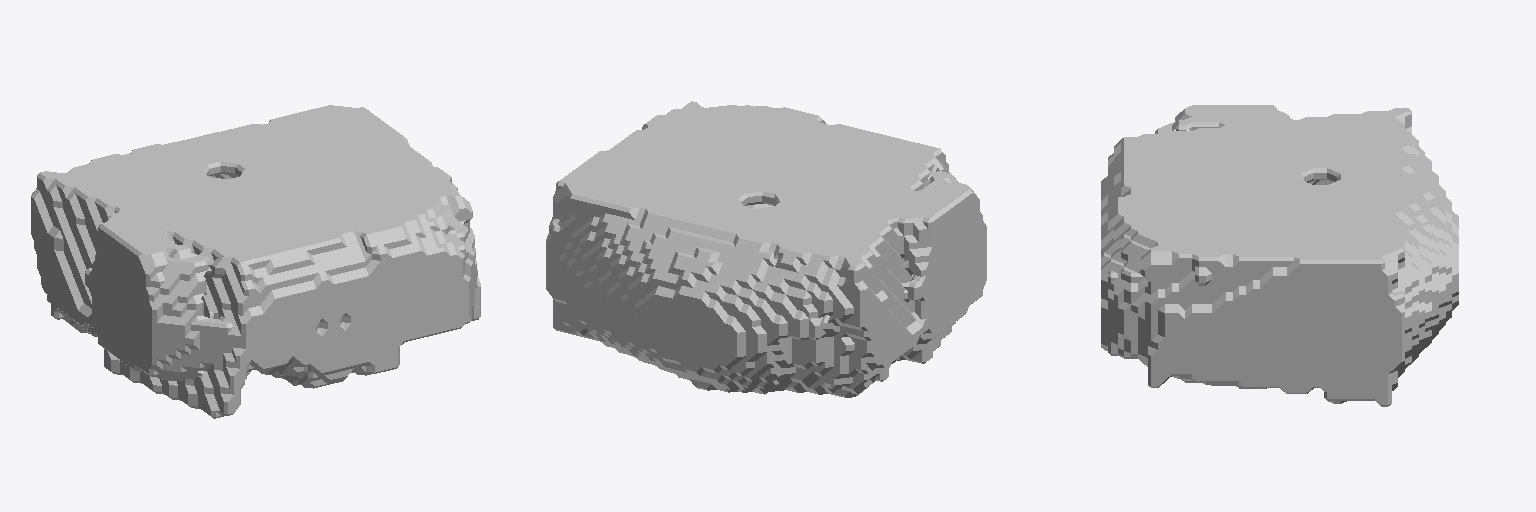
Rendered from Input_surface_mesh.obj.
The picture shows the model from 3 angles: view 1: azimuth 30°, elevation 25°; view 2: azimuth 150°, elevation 25°; view 3: azimuth 270°, elevation 25°; orthographic projection.
Size of the model in its own units: 4.4 by 1.92 by 4.24.